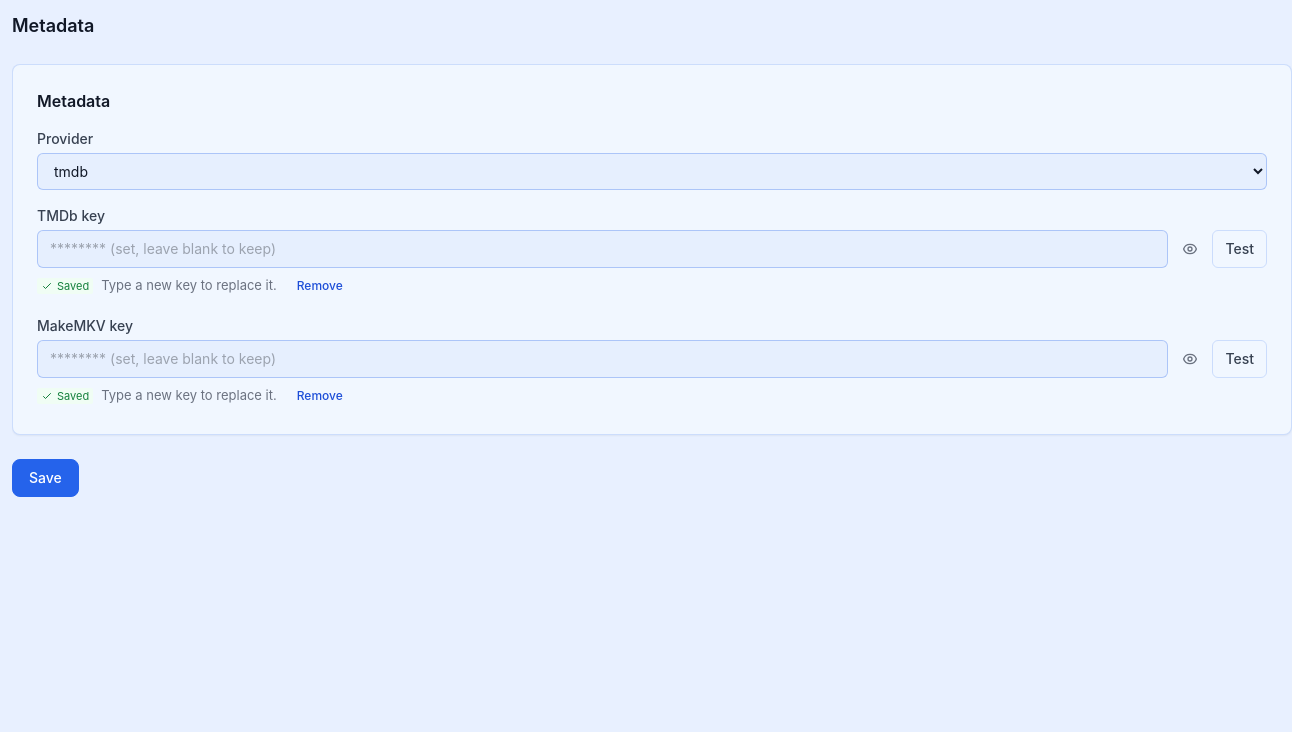
Test case: SchemaConfigForm key-check button › renders the missing result
Click the 1st button "Test".
click(1240, 249)  # box [1212,230,1267,268]
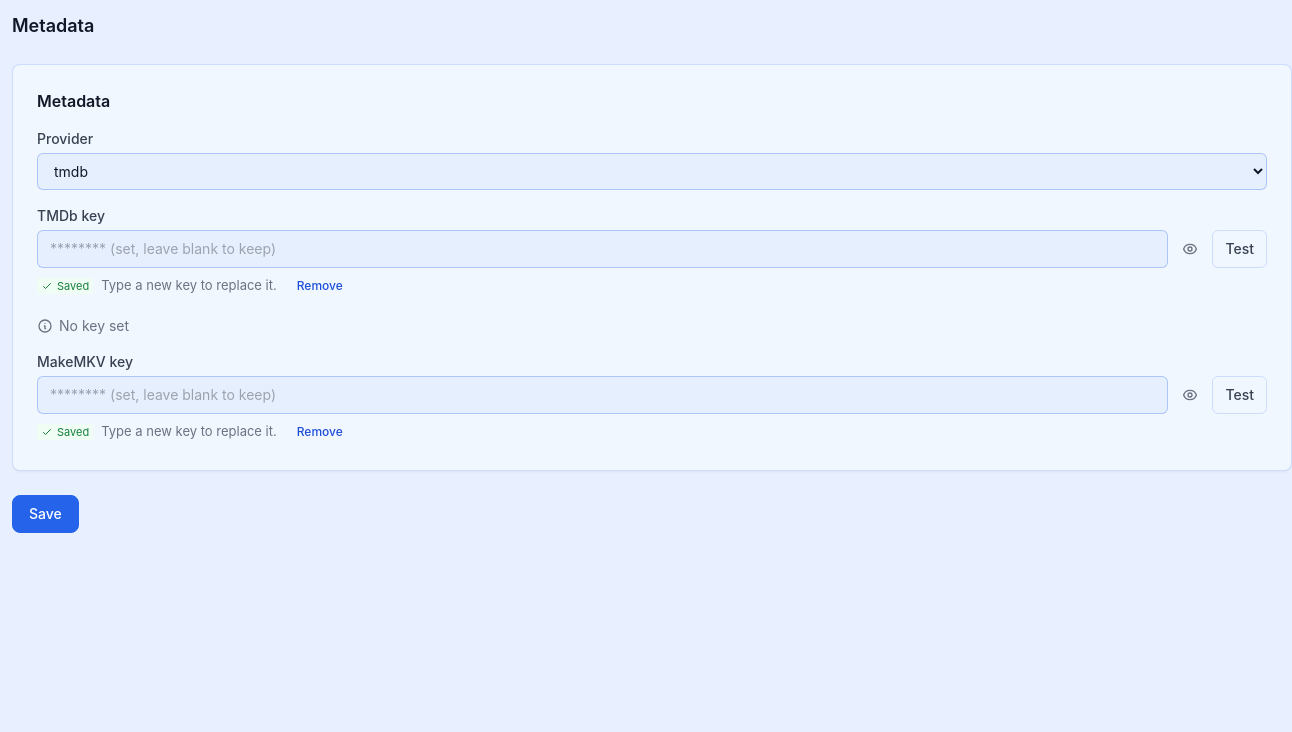
Expected: the element with test id "key-check-tmdb_api_key" reads "No key set", [59,317,129,334]
